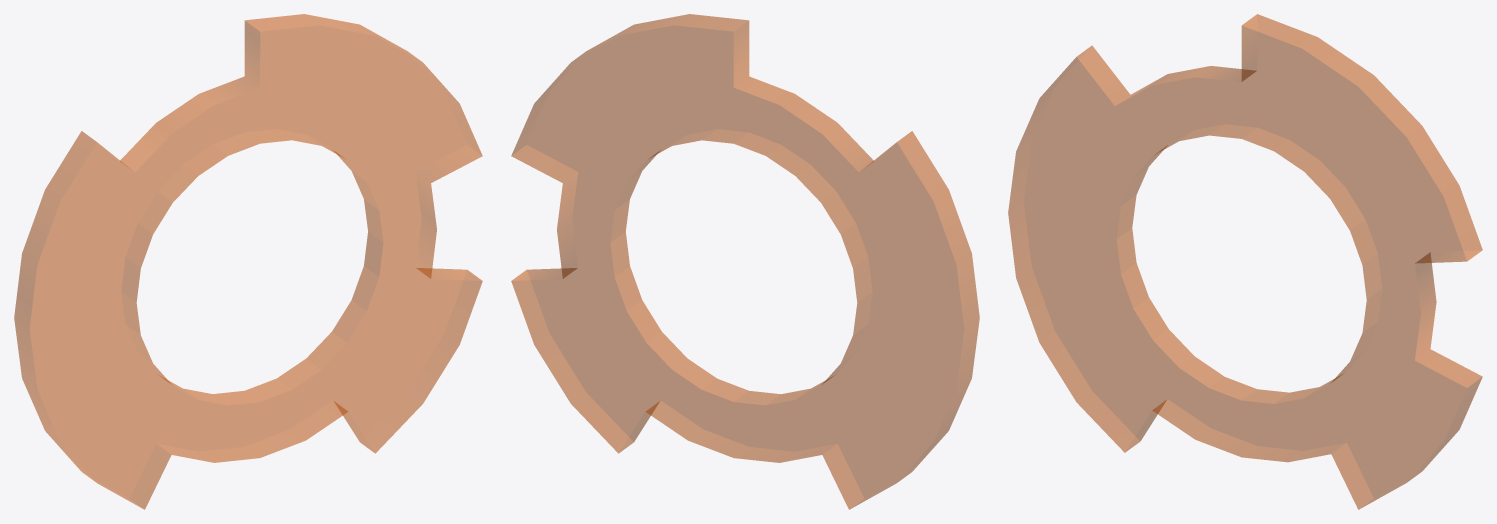
Rendered from obstacle_A.fbx.
3 renders of one model, left to right at view 1: azimuth 30°, elevation 25°; view 2: azimuth 150°, elevation 25°; view 3: azimuth 330°, elevation 25°, orthographic.
Parts seen in each view (by area): view 1: pCylinder7; view 2: pCylinder7; view 3: pCylinder7.
Part boxes in pixels (x1=…): pCylinder7: x1=14, y1=14, x2=482, y2=509; pCylinder7: x1=511, y1=14, x2=979, y2=509; pCylinder7: x1=1008, y1=14, x2=1482, y2=509.
Bounding box in the file's own units: 6.72 × 6.38 × 0.3986.
